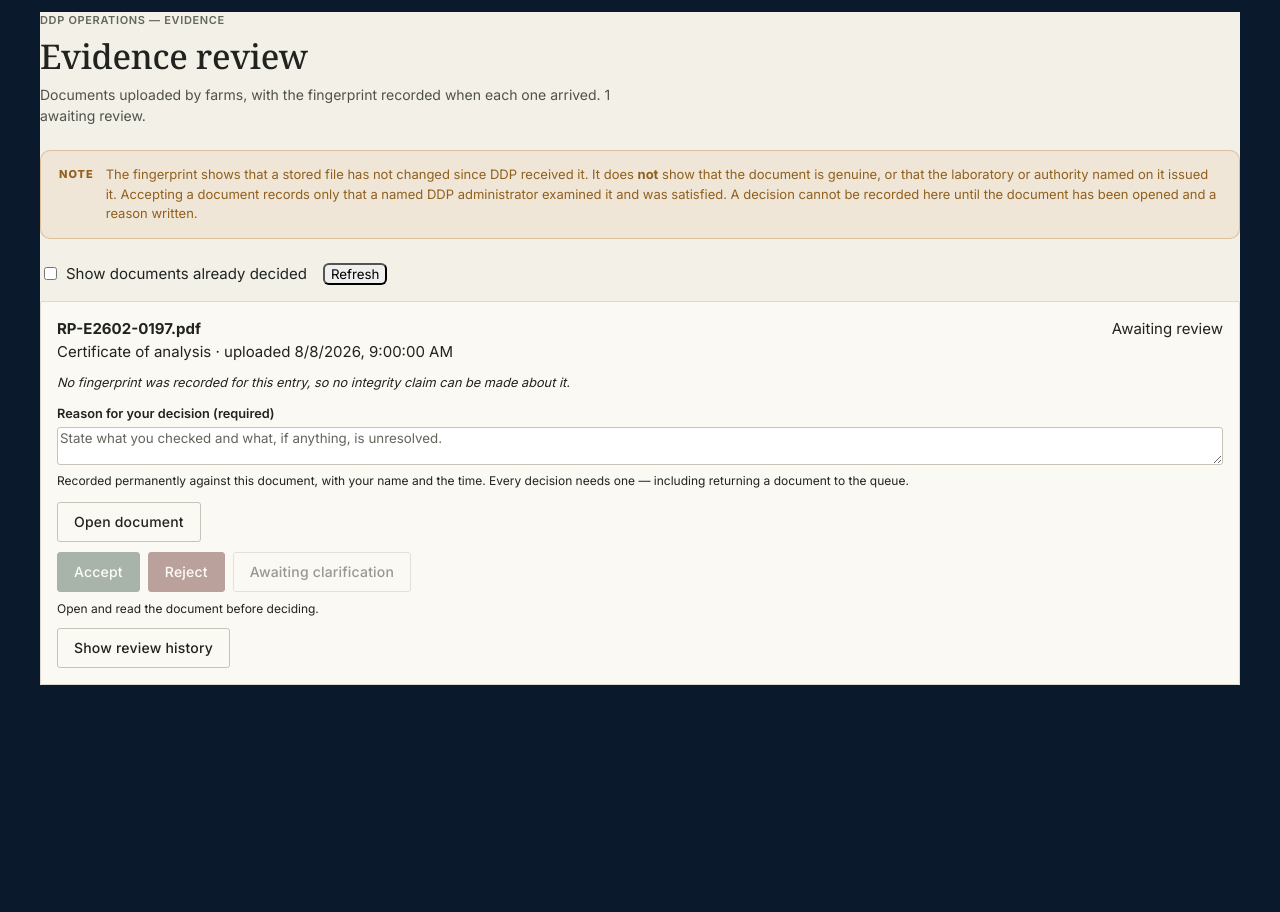
Test case: opening the document unlocks the decision › does not unlock when the signed URL could not be produced
Expected: the button "Accept" is shown, [57, 552, 140, 592]
Type "Cannabinoid figures match the batch record." into the text box labelled "Reason for your decision (required)". click: (640, 446)
box: [57, 427, 1223, 465]
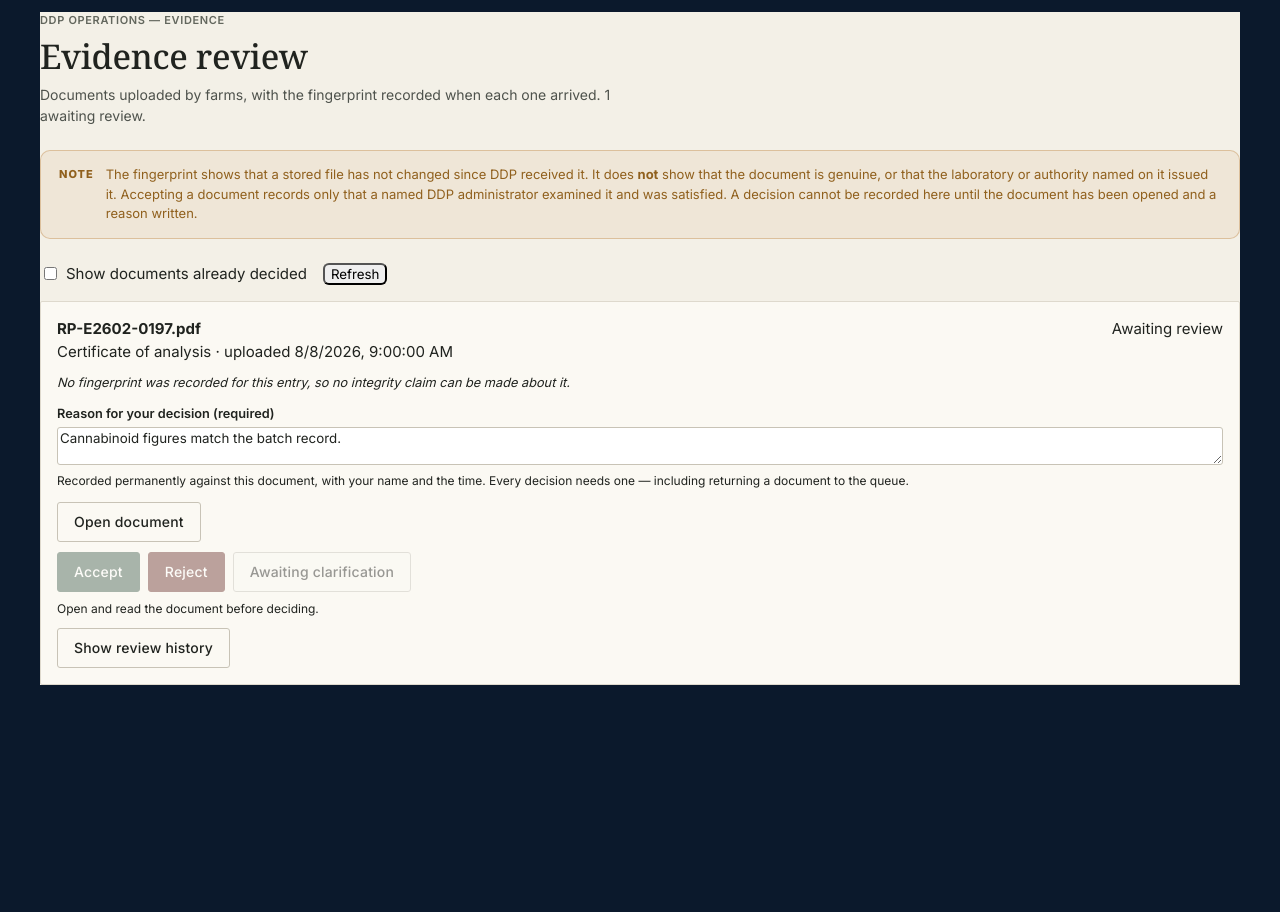
Click the button "Open document". click: (129, 522)
box: [57, 502, 201, 542]
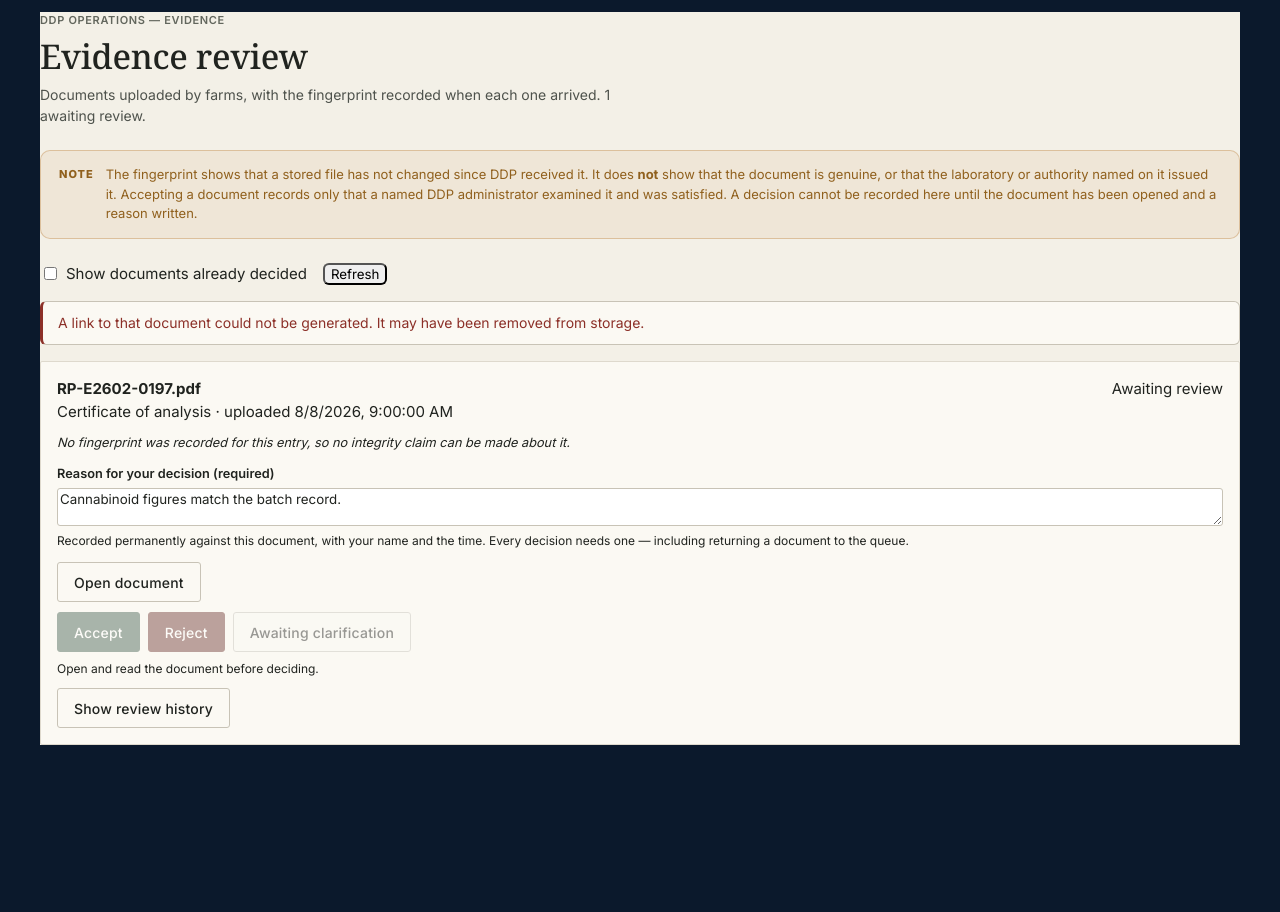
Expected: the button "Accept" is disabled, [57, 612, 140, 652]
Result: the message is shown at [40, 301, 1240, 345]
